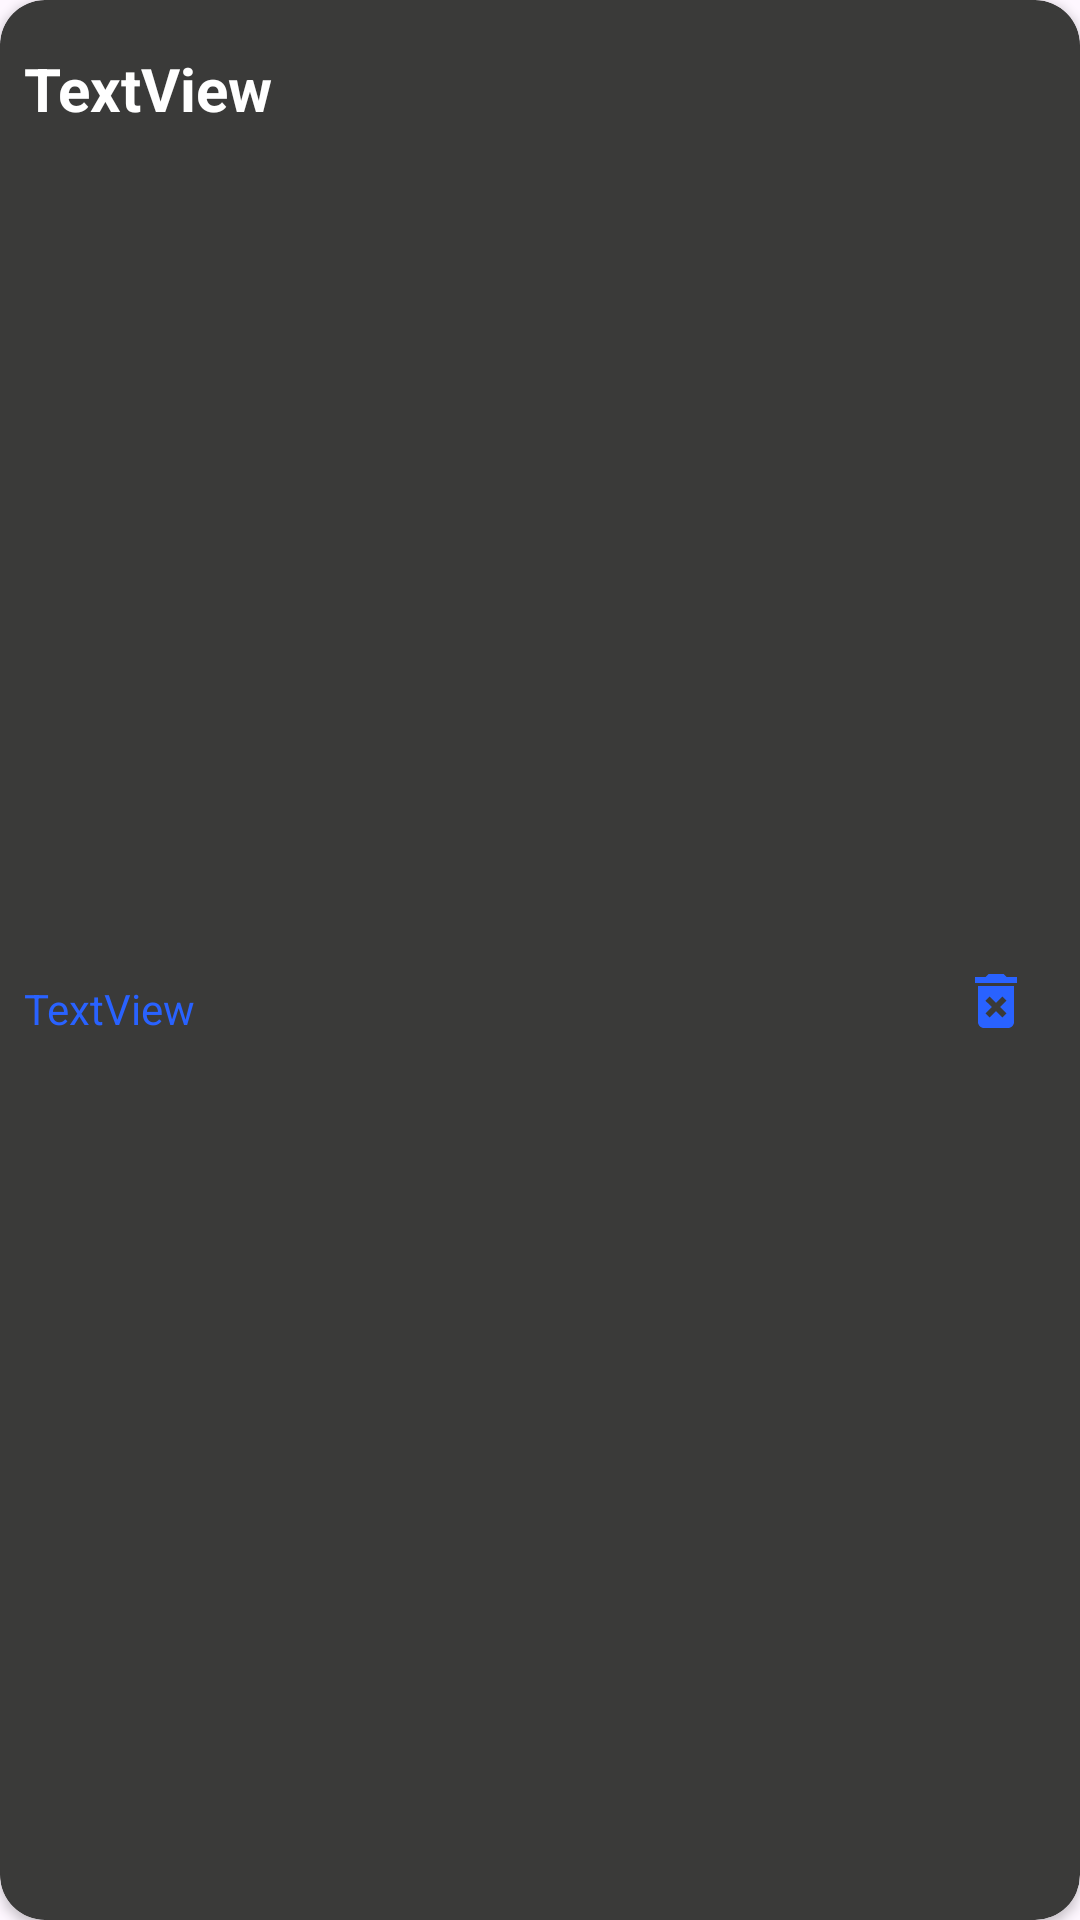

Locate icon controls on the screen. Image size 1080*1920, boxes as (x1, y1, x2, y2).
delete: (975, 974, 1017, 1028)
